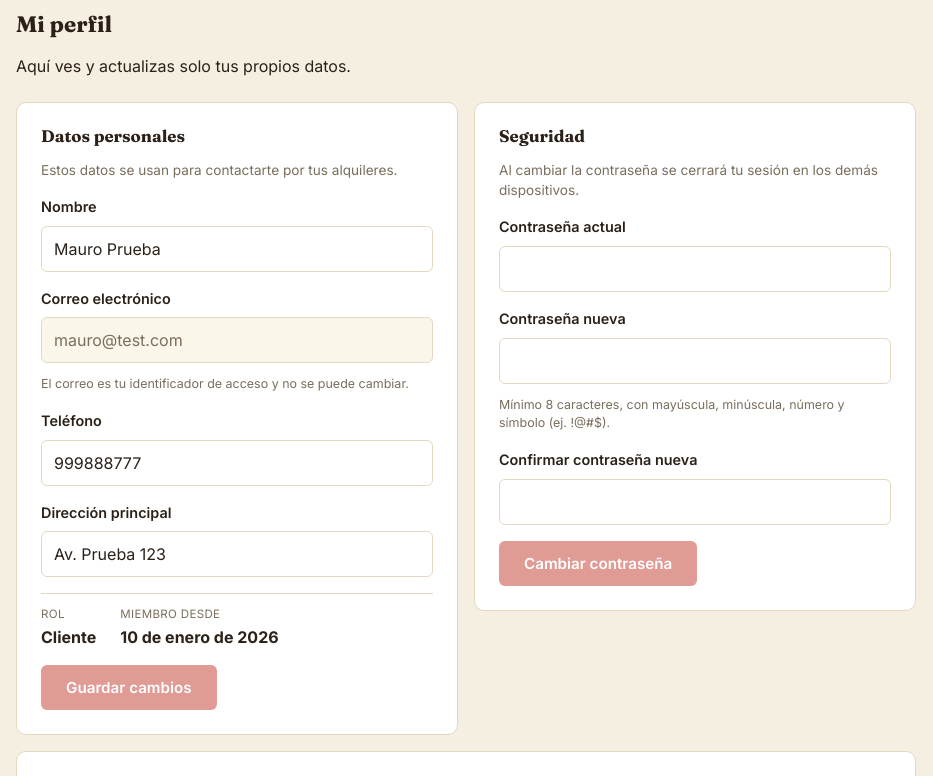
Test: Pruebas funcionales - Perfil › PF-FE-77: cambia correctamente la contraseña y guarda el nuevo access token
Type "Actual123!" into the password field labelled "Contraseña actual" at (695, 269), box [499, 246, 891, 292]
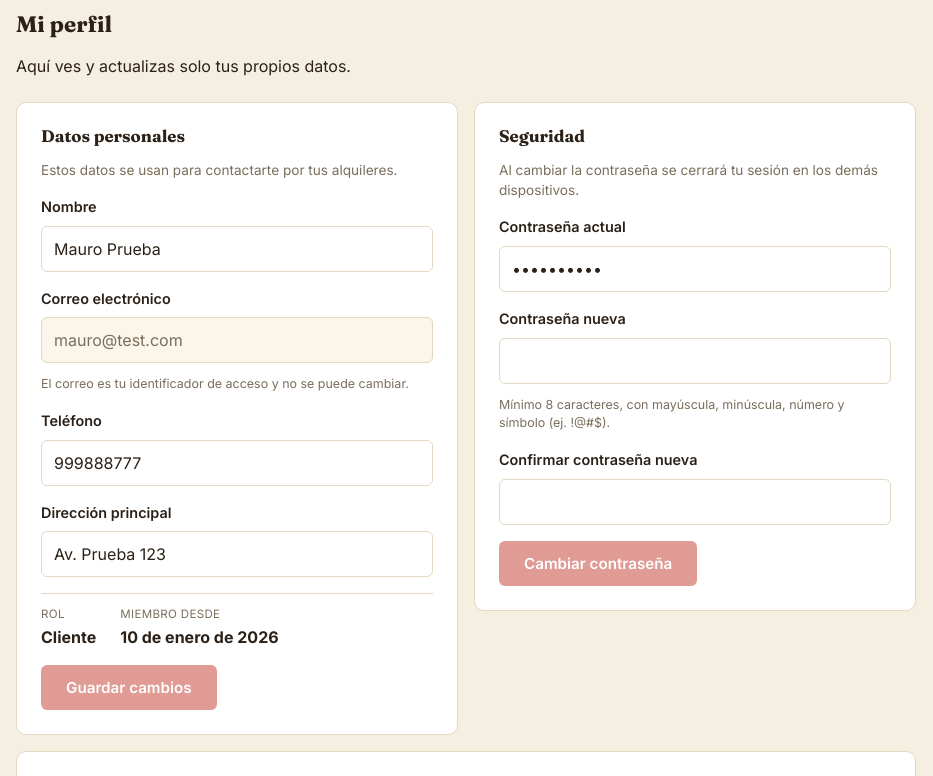
Type "Nueva123!" into the password field labelled "Contraseña nueva" at (695, 361), box [499, 338, 891, 384]
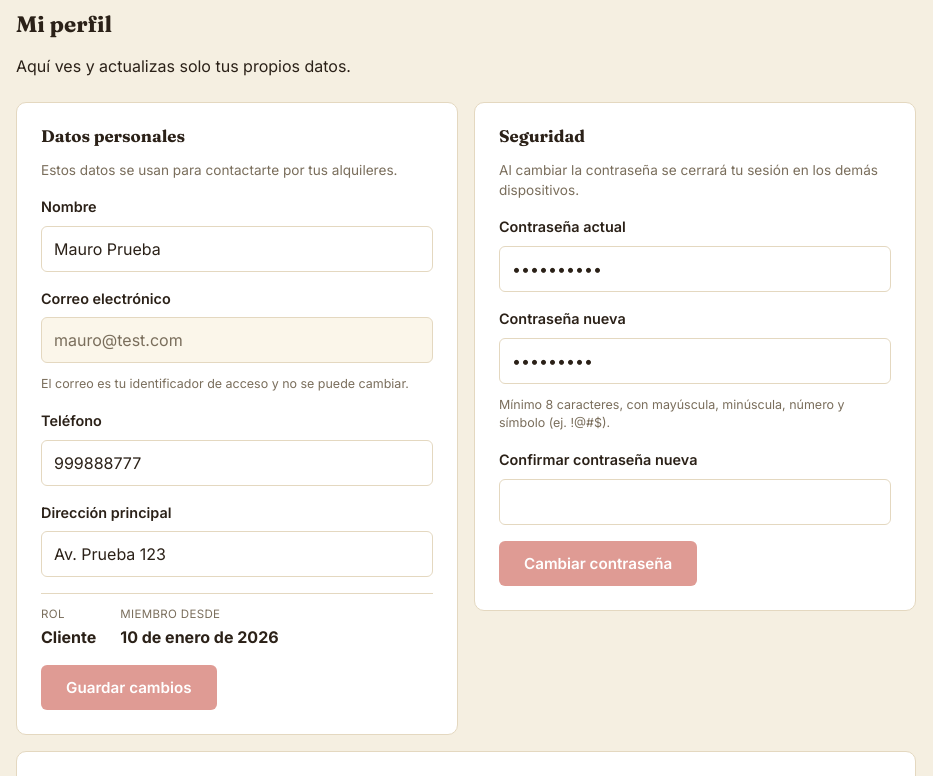
Type "Nueva123!" into the password field labelled "Confirmar contraseña nueva" at (695, 502), box [499, 479, 891, 525]
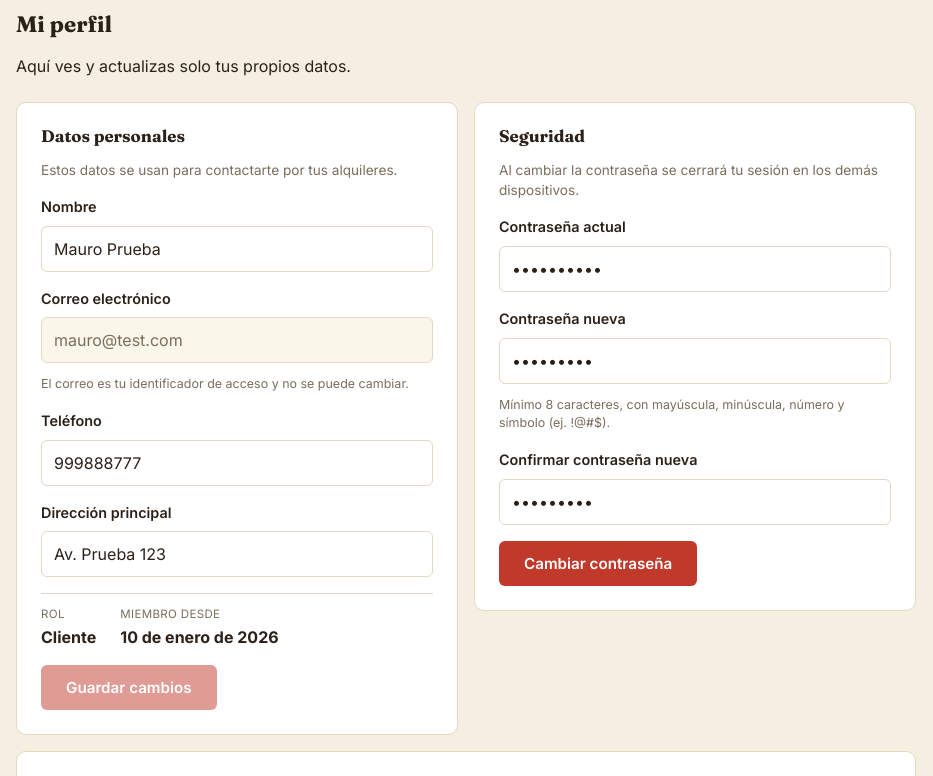
Click the button "Cambiar contraseña" at (598, 563), box [499, 541, 697, 586]
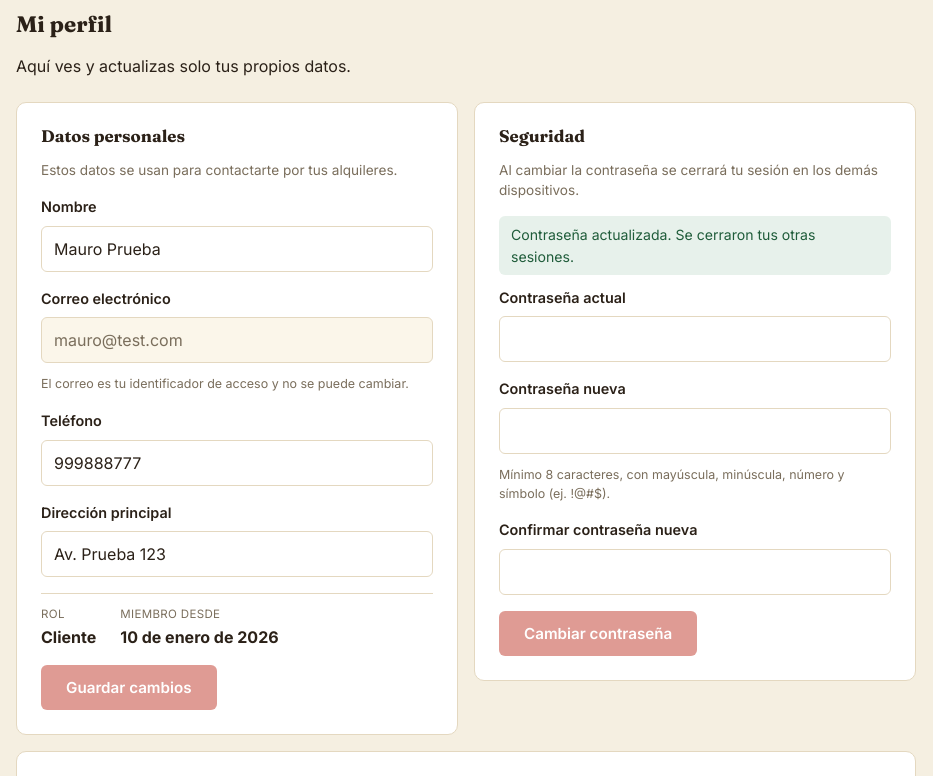
Result: the text "Contraseña actualizada. Se cerraron tus otras sesiones." is shown at [499, 216, 891, 275]
Result: the password field labelled "Contraseña actual" is empty at [499, 316, 891, 362]
Result: the password field labelled "Contraseña nueva" is empty at [499, 408, 891, 454]
